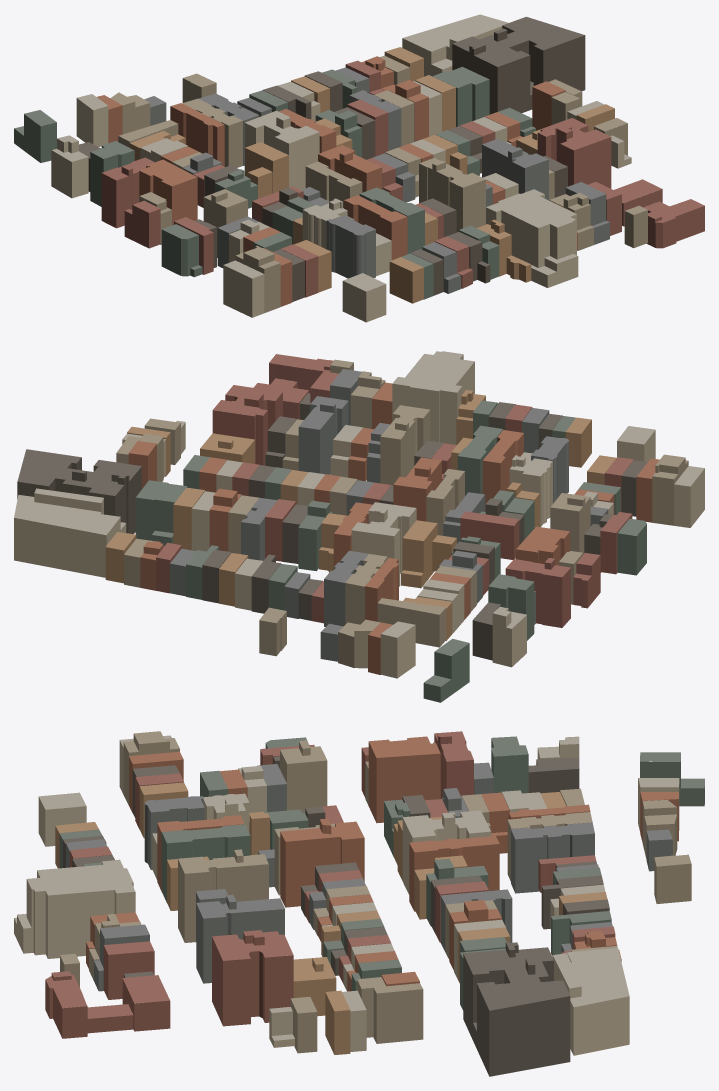
Rendered from tile--3_-4.glb.
3 renders of one model, top to bottom at view 1: azimuth 30°, elevation 25°; view 2: azimuth 150°, elevation 25°; view 3: azimuth 270°, elevation 25°, orthographic. The views are drawn at different scales.
Visible parts, largest first — view 1: wall, roof; view 2: wall, roof; view 3: wall, roof.
Boxes of the visible parts, x1,y1,x2,y2 form: wall: (14,25,704,322); roof: (14,14,704,291); wall: (14,355,704,702); roof: (14,351,704,686); wall: (14,734,704,1076); roof: (14,731,704,1040).
Bounding box in the file's own units: 212 × 27.27 × 212.
